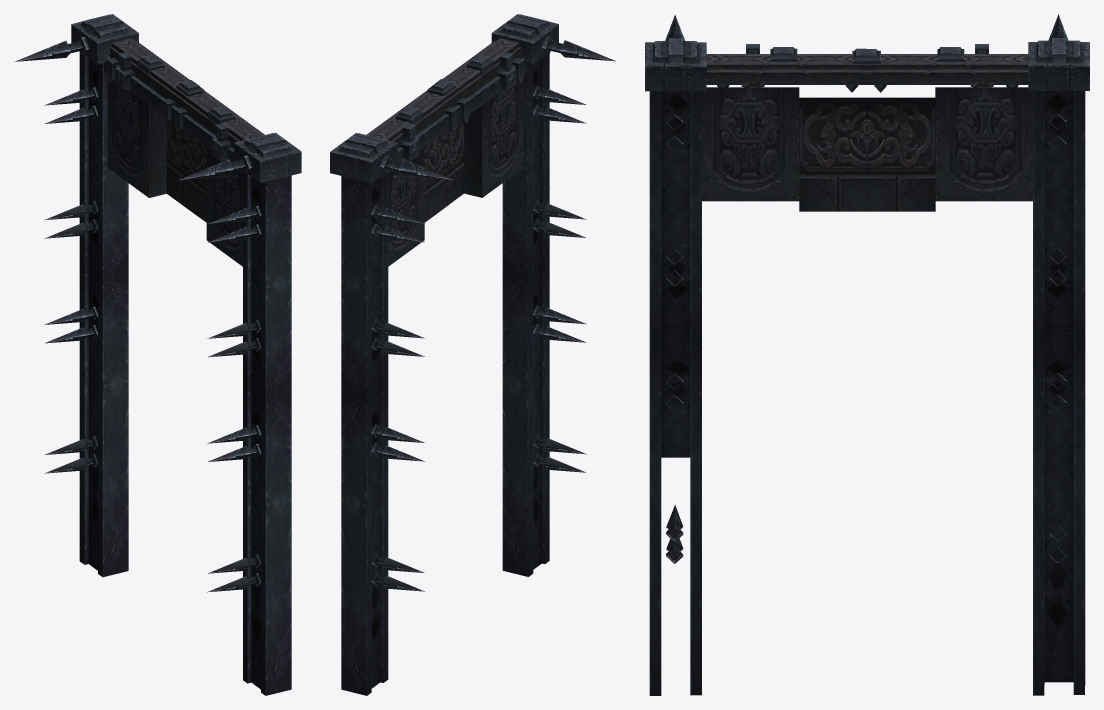
File: milao_xianjieqiao_05.FBX
3 renders of one model, left to right at view 1: azimuth 30°, elevation 25°; view 2: azimuth 150°, elevation 25°; view 3: azimuth 270°, elevation 25°, orthographic. The views are drawn at different scales.
Parts seen in each view (by area): view 1: milao_xianjieqiao_05; view 2: milao_xianjieqiao_05; view 3: milao_xianjieqiao_05.
Part boxes in pixels (bbox=[...]): milao_xianjieqiao_05: bbox=[14, 14, 301, 695]; milao_xianjieqiao_05: bbox=[330, 14, 615, 695]; milao_xianjieqiao_05: bbox=[645, 14, 1089, 695].
Bounding box in the file's own units: 6.62 × 30.55 × 19.17.
1 material, 1 textured.
